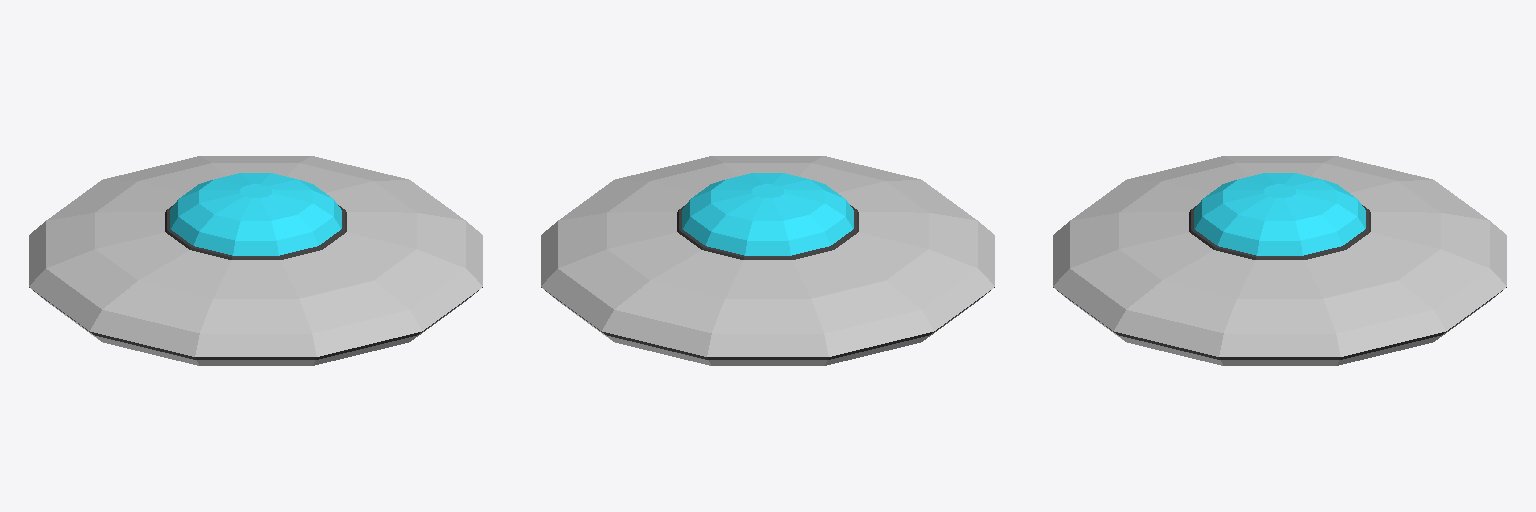
File: Low_Poly_UFO_002.obj
3 views of the same model, side by side, from view 1: azimuth 30°, elevation 25°; view 2: azimuth 150°, elevation 25°; view 3: azimuth 270°, elevation 25° (orthographic).
Visible parts, largest first — view 1: Low_Poly_UFO_002_Sphere; view 2: Low_Poly_UFO_002_Sphere; view 3: Low_Poly_UFO_002_Sphere.
Boxes of the visible parts, x1,y1,x2,y2 form: Low_Poly_UFO_002_Sphere: [29, 156, 482, 365]; Low_Poly_UFO_002_Sphere: [541, 156, 994, 365]; Low_Poly_UFO_002_Sphere: [1053, 156, 1506, 365].
Size of the model in its own units: 5.8 by 1.82 by 5.8.